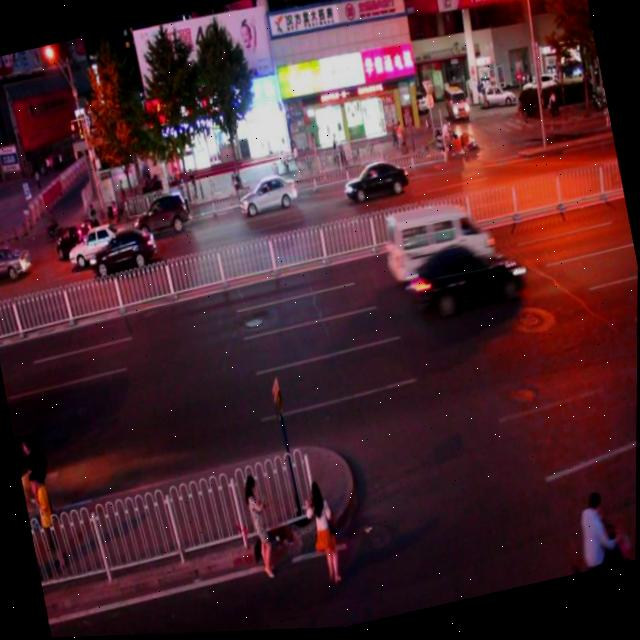car: (397, 231, 532, 329), (83, 218, 162, 283), (340, 154, 413, 213), (235, 168, 301, 223), (130, 188, 192, 241), (66, 221, 131, 270), (51, 207, 107, 263), (0, 238, 37, 288), (629, 327, 638, 439)
truck: (379, 187, 500, 297)
